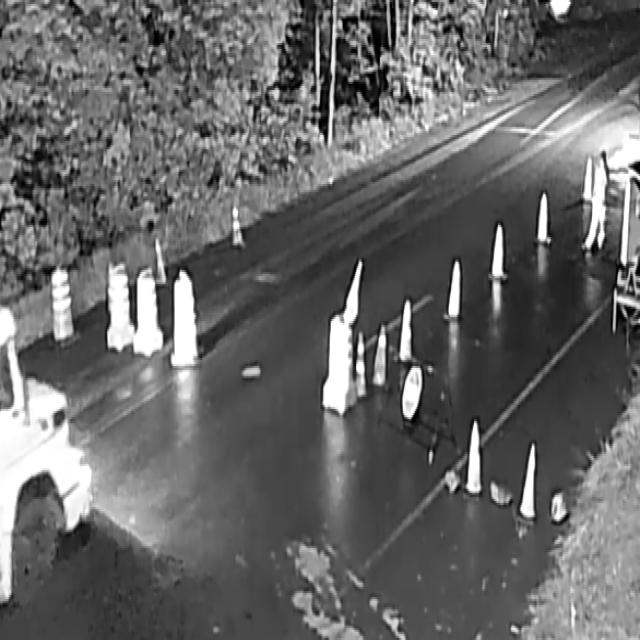big_cone: (328, 313, 352, 410), (175, 270, 196, 369), (108, 264, 128, 348), (51, 267, 74, 339), (139, 273, 156, 356)
small_cone: (517, 439, 539, 520), (398, 296, 415, 368), (446, 257, 464, 325), (468, 418, 483, 496), (353, 330, 369, 402), (489, 215, 506, 282), (535, 187, 551, 247), (374, 326, 386, 394), (229, 200, 243, 246), (154, 234, 165, 285)
